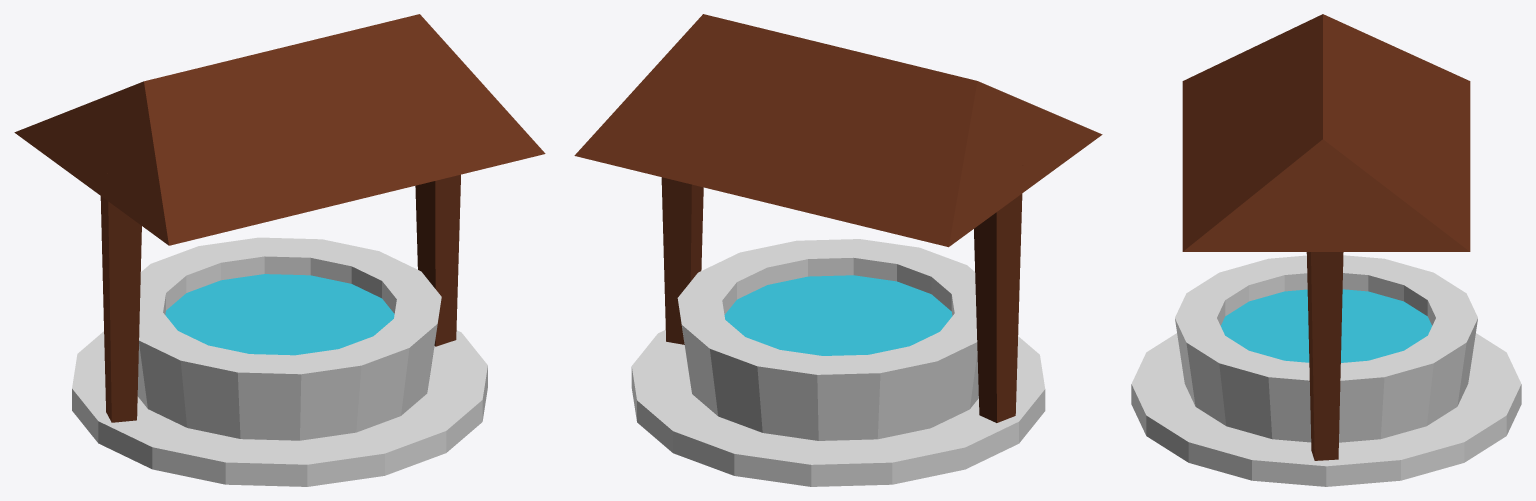
The model's file is Well.fbx.
The picture shows the model from 3 angles, left to right: view 1: azimuth 30°, elevation 25°; view 2: azimuth 150°, elevation 25°; view 3: azimuth 270°, elevation 25°; orthographic projection. The views are drawn at different scales.
Parts seen in each view (by area): view 1: Well, Water; view 2: Well, Water; view 3: Well, Water.
Boxes of the visible parts, left/top/right/bottom form: Well: left=14, top=14, right=545, bottom=486; Water: left=165, top=274, right=394, bottom=355; Well: left=574, top=14, right=1102, bottom=486; Water: left=724, top=275, right=952, bottom=355; Well: left=1131, top=14, right=1521, bottom=486; Water: left=1221, top=289, right=1431, bottom=362.
Bounding box in the file's own units: 440 × 393 × 424.
